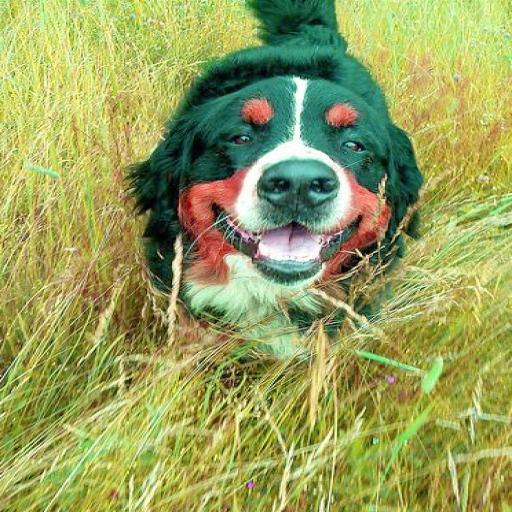dog_face: (158, 77, 406, 281)
